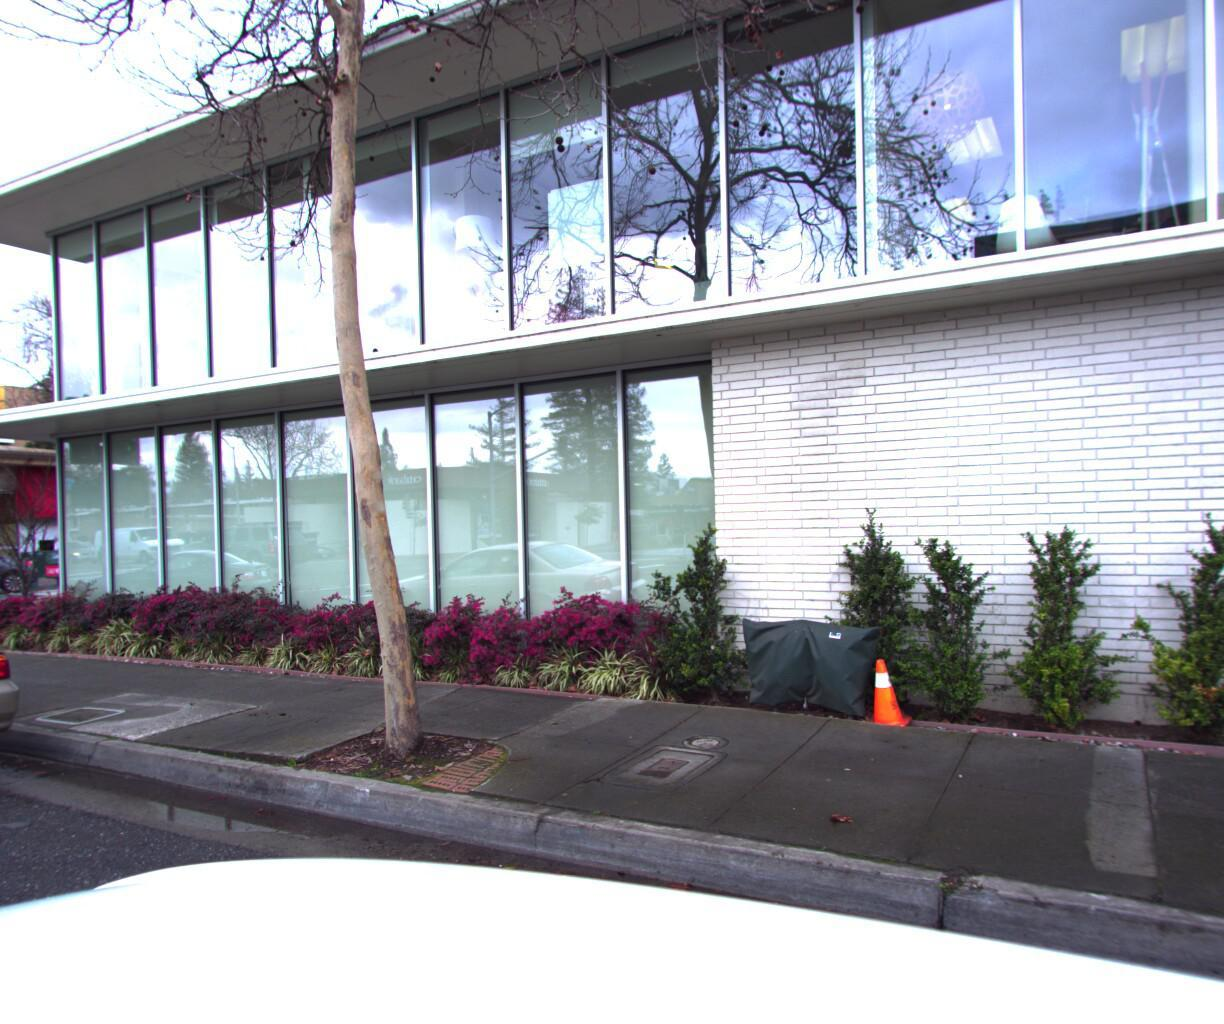car: (0, 556, 43, 847), (0, 542, 47, 612)
